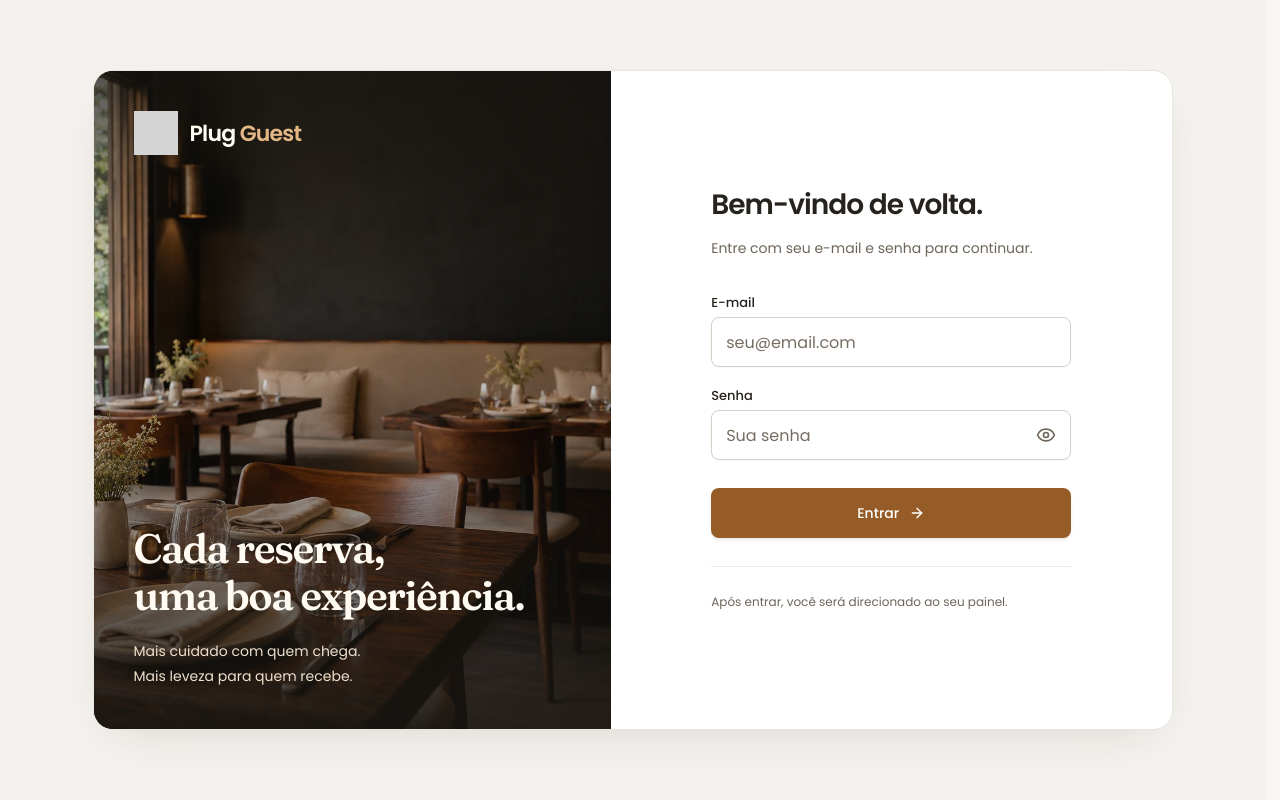
Login › reveals and hides the password without submitting credentials
Type "USER@EXAMPLE.TEST" into the field labelled "E-mail".
click(891, 342); type("USER@EXAMPLE.TEST")  # box [711,317,1071,367]
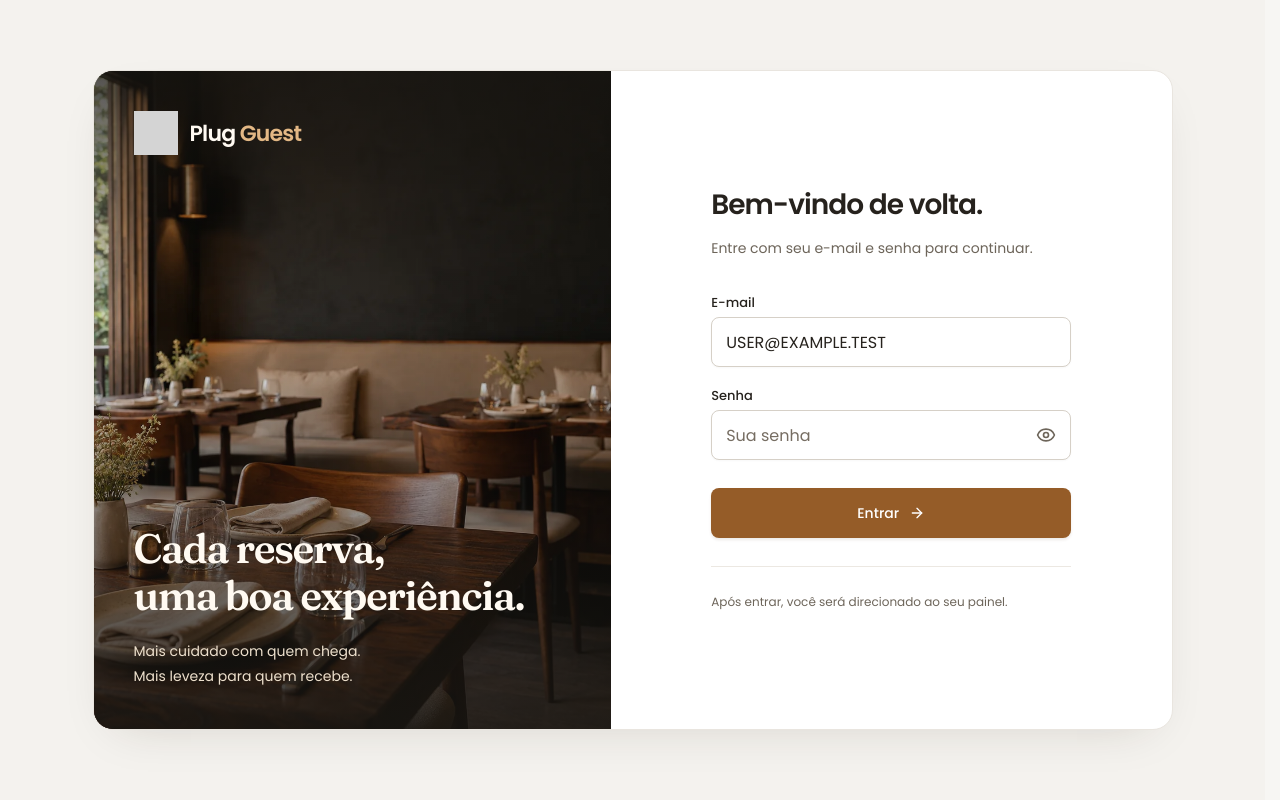
Type " senha mantida " into the password field labelled "Senha".
click(891, 435); type(" senha mantida ")  # box [711,410,1071,460]
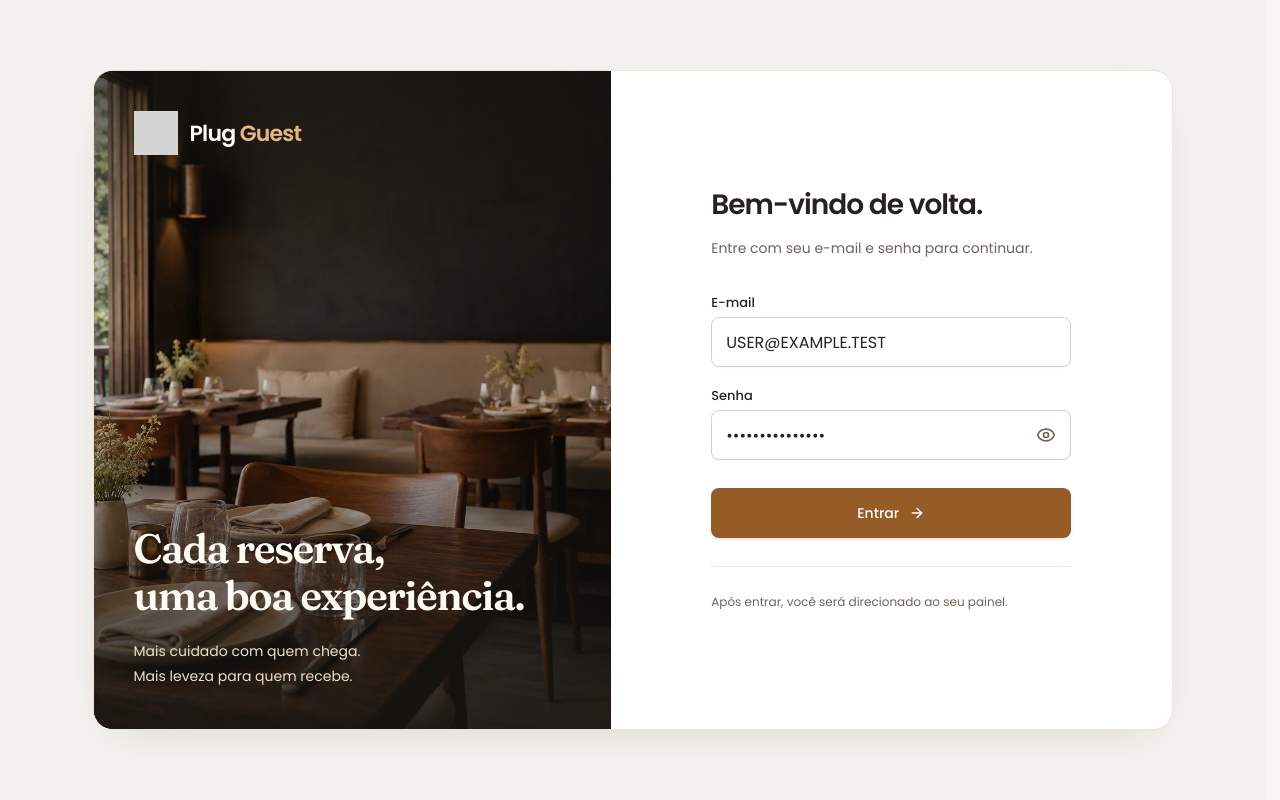
Click the button named "mostrar senha".
click(1046, 435)  # box [1024,413,1068,457]
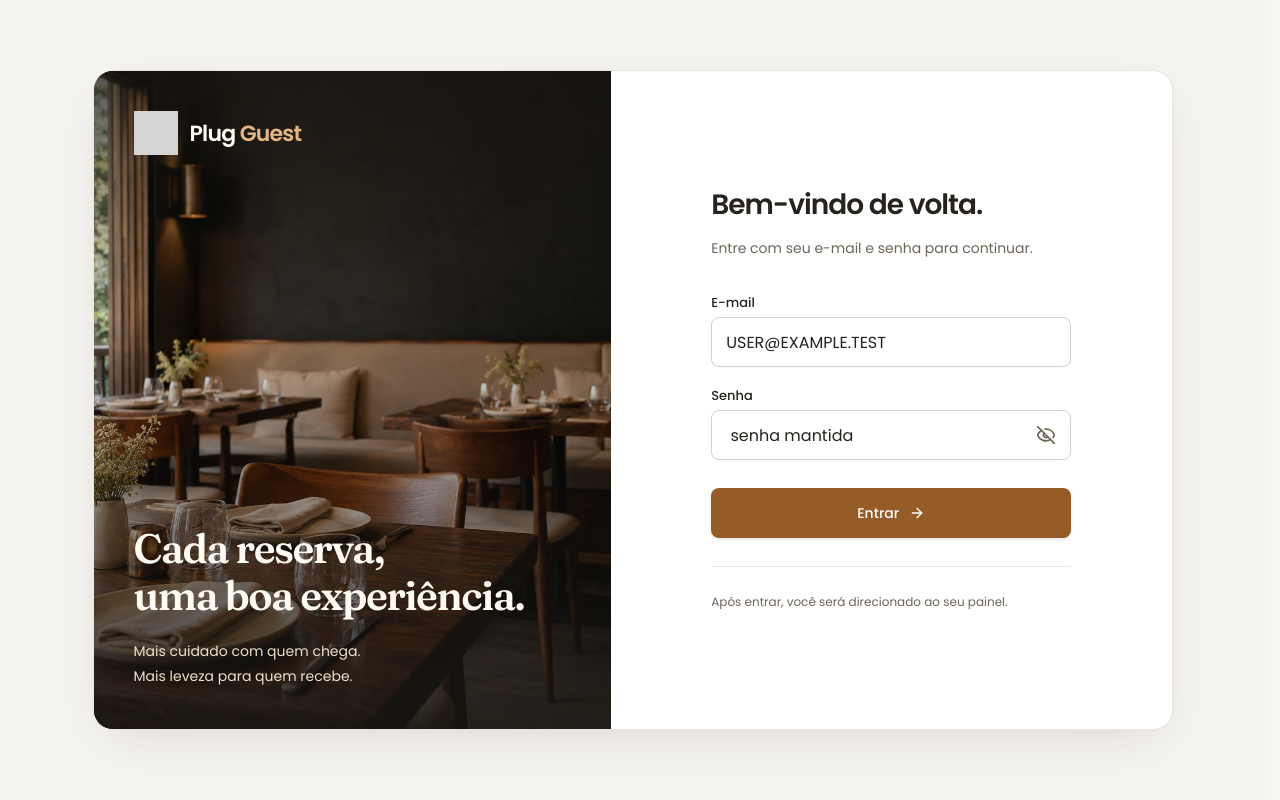
Result: the field labelled "Senha" shows its text at [711,410,1071,460]
Click the button named "ocultar senha".
click(1046, 435)  # box [1024,413,1068,457]
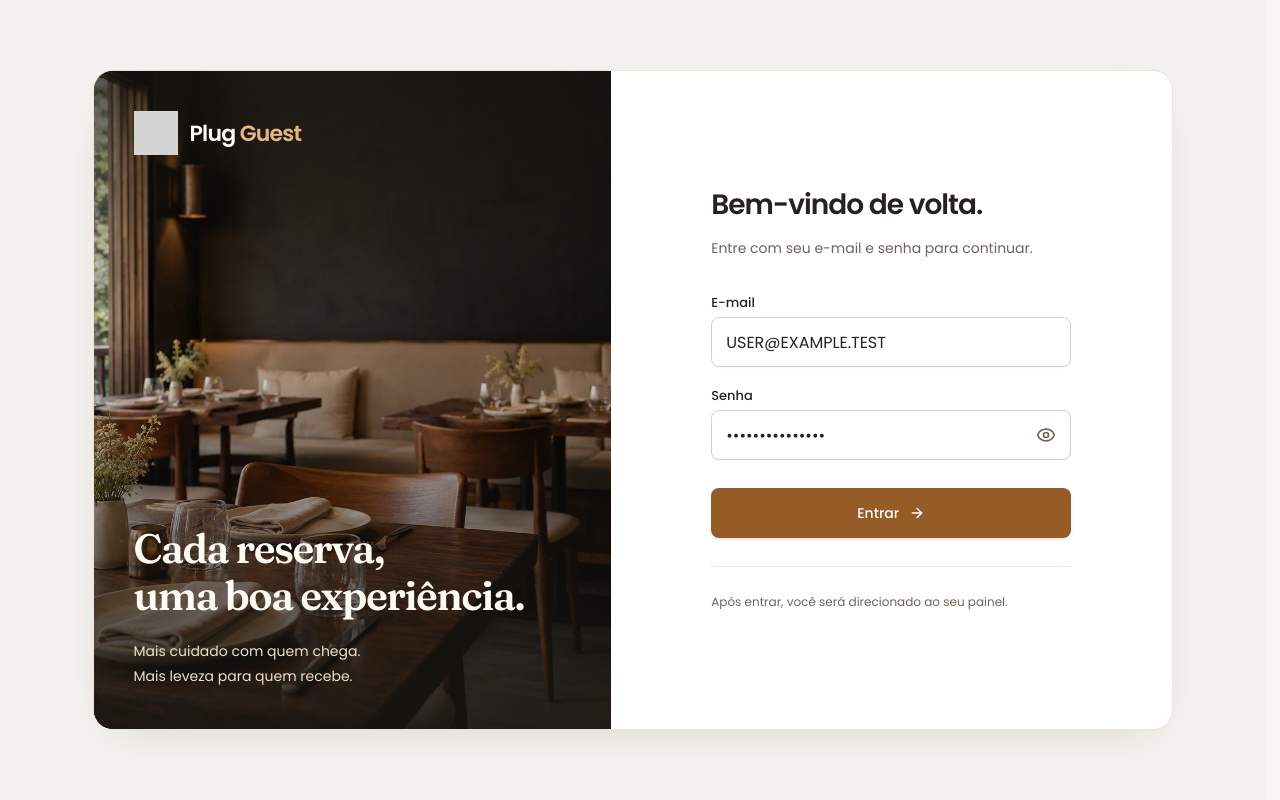
Result: the password field labelled "Senha" hides its text at [711,410,1071,460]
